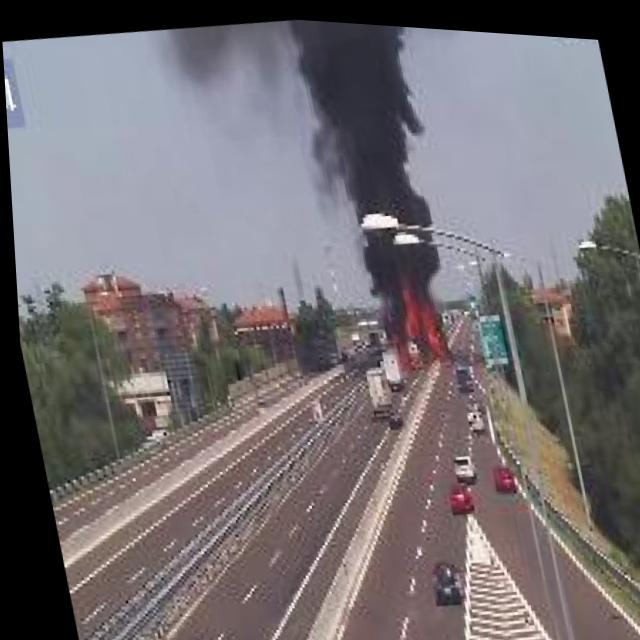fire: (379, 261, 454, 371)
